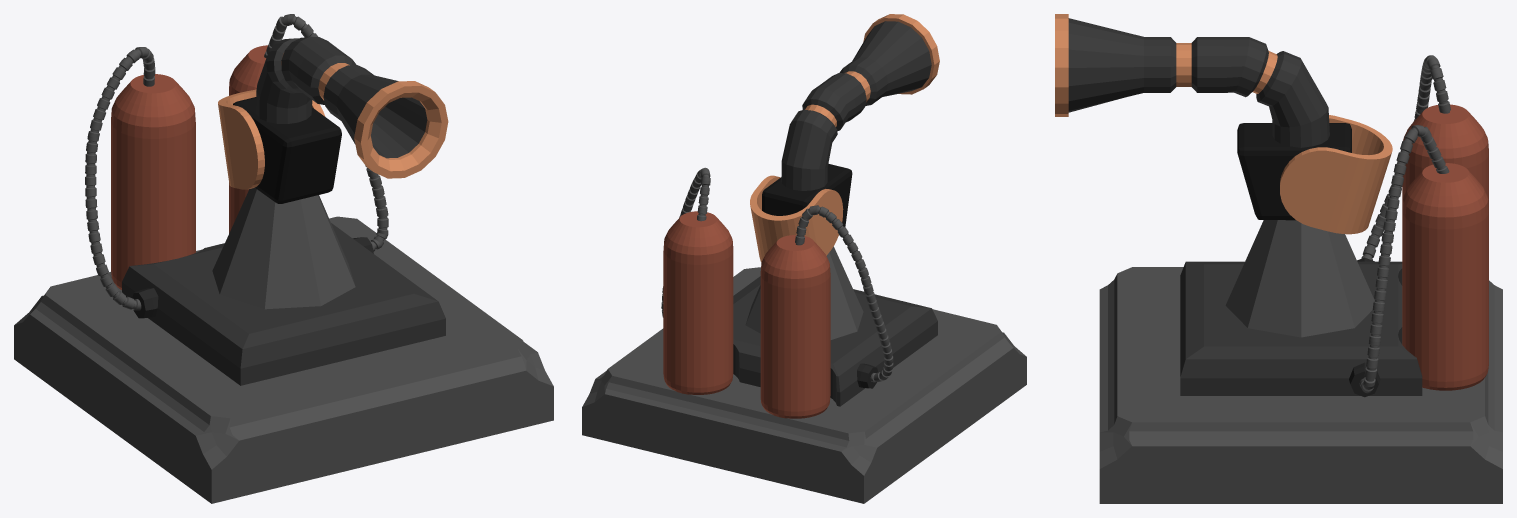
File: Flamethrower Tower.fbx
3 views of the same model, side by side, from view 1: azimuth 30°, elevation 25°; view 2: azimuth 150°, elevation 25°; view 3: azimuth 270°, elevation 25° (orthographic). The views are drawn at different scales.
Visible parts, largest first — view 1: Platform, Head; view 2: Platform, Head; view 3: Platform, Head.
Part boxes in pixels (bbox=[...]): Platform: bbox=[14, 14, 553, 503]; Head: bbox=[212, 37, 448, 309]; Platform: bbox=[582, 167, 1026, 503]; Head: bbox=[745, 14, 939, 339]; Platform: bbox=[1099, 55, 1502, 503]; Head: bbox=[1055, 14, 1392, 337].
Size of the model in its own units: 100 by 109 by 111.
